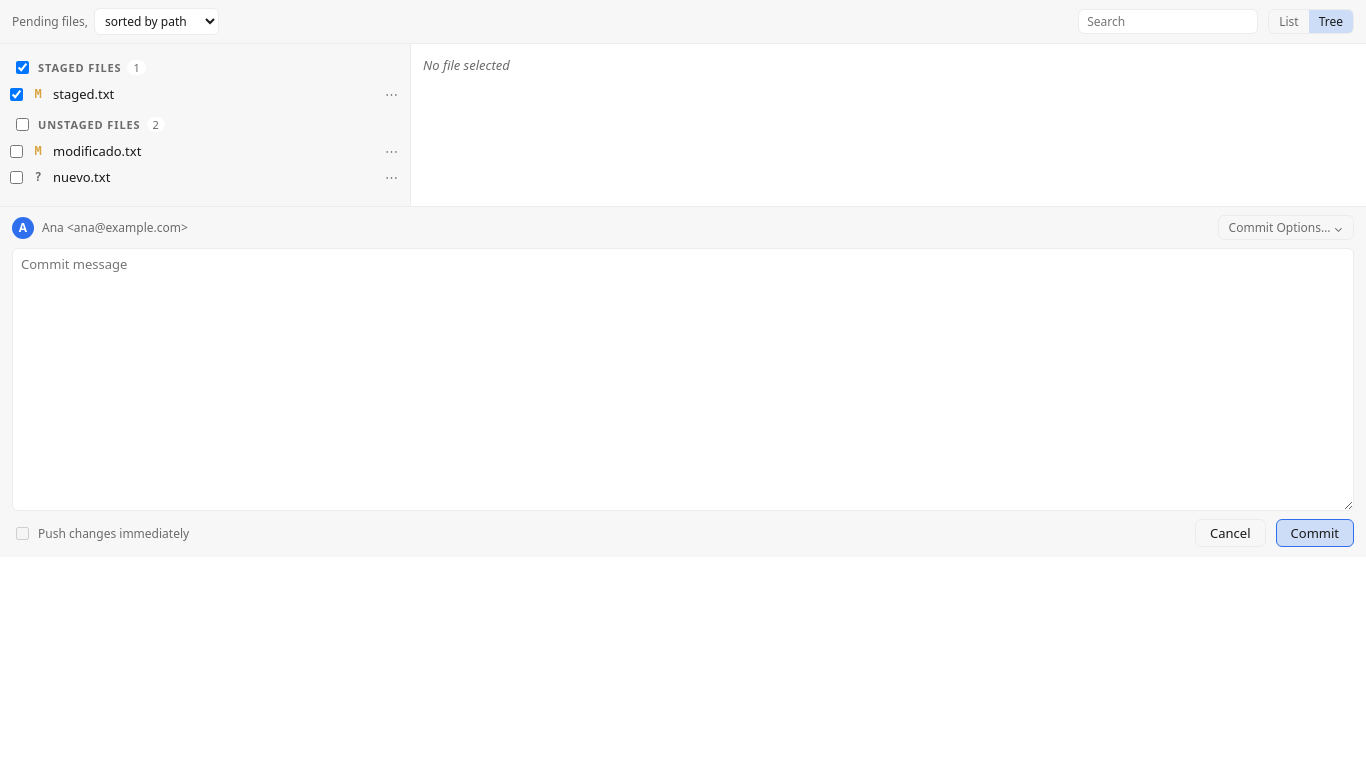
Test case: StatusView › opens a file context menu
Right-click the text "modificado.txt" at (97, 151), box top-left (53, 142), bottom-right (141, 160)
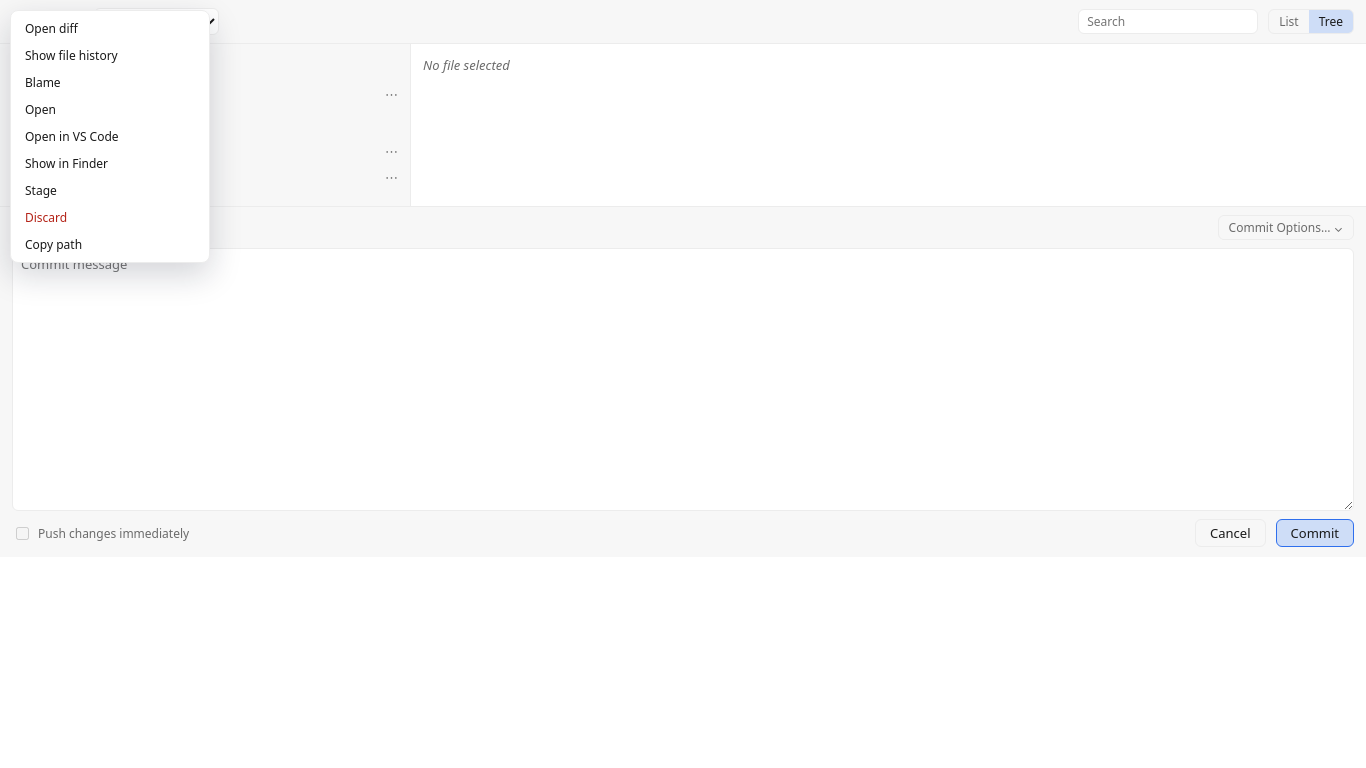
Expected: the menu item "Stage" is shown, top-left (15, 177), bottom-right (205, 204)
Expected: the menu item "Discard" is shown, top-left (15, 204), bottom-right (205, 231)
Expected: the menu item "Blame" is shown, top-left (15, 69), bottom-right (205, 96)
